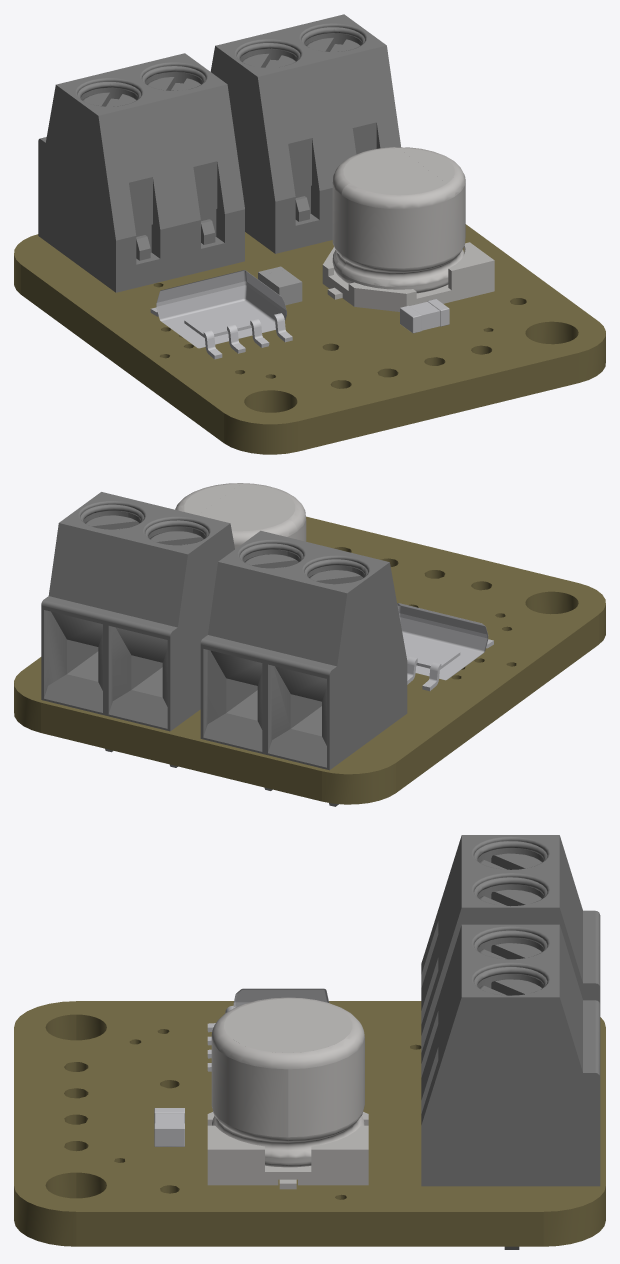
Rendered from ada-3190.glb.
3 renders of one model, top to bottom at view 1: azimuth 30°, elevation 25°; view 2: azimuth 150°, elevation 25°; view 3: azimuth 270°, elevation 25°, orthographic. The views are drawn at different scales.
Visible parts, largest first — view 1: 0.25_0.25_0.25_0, 0.16666666666666666_0.16666666666666666_0.08333333333333333_, 0.5_0.5_0.5_0.85, 0.5833333333333334_0.5833333333333334_0.5833333333333334_0.8, 0.3333333333333333_0.3333333333333333_0.3333333333333333_0; view 2: 0.25_0.25_0.25_0, 0.16666666666666666_0.16666666666666666_0.08333333333333333_, 0.5_0.5_0.5_0.85, 0.5833333333333334_0.5833333333333334_0.5833333333333334_0.8; view 3: 0.16666666666666666_0.16666666666666666_0.08333333333333333_, 0.25_0.25_0.25_0, 0.5_0.5_0.5_0.85, 0.5833333333333334_0.5833333333333334_0.5833333333333334_0.8.
Part boxes in pixels (x1,y1,x2,y2): 0.25_0.25_0.25_0: (38, 14, 400, 292); 0.16666666666666666_0.16666666666666666_0.08333333333333333_: (14, 224, 605, 454); 0.5_0.5_0.5_0.85: (322, 147, 494, 311); 0.5833333333333334_0.5833333333333334_0.5833333333333334_0.8: (150, 270, 449, 359); 0.3333333333333333_0.3333333333333333_0.3333333333333333_0: (258, 266, 302, 305); 0.25_0.25_0.25_0: (41, 492, 407, 806); 0.16666666666666666_0.16666666666666666_0.08333333333333333_: (14, 516, 605, 804); 0.5_0.5_0.5_0.85: (175, 483, 306, 548); 0.5833333333333334_0.5833333333333334_0.5833333333333334_0.8: (397, 603, 493, 691); 0.16666666666666666_0.16666666666666666_0.08333333333333333_: (14, 1001, 605, 1246); 0.25_0.25_0.25_0: (421, 835, 600, 1249); 0.5_0.5_0.5_0.85: (207, 997, 368, 1189); 0.5833333333333334_0.5833333333333334_0.5833333333333334_0.8: (154, 988, 329, 1146).
Size of the model in its own units: 2.03 by 1.21 by 2.41.
